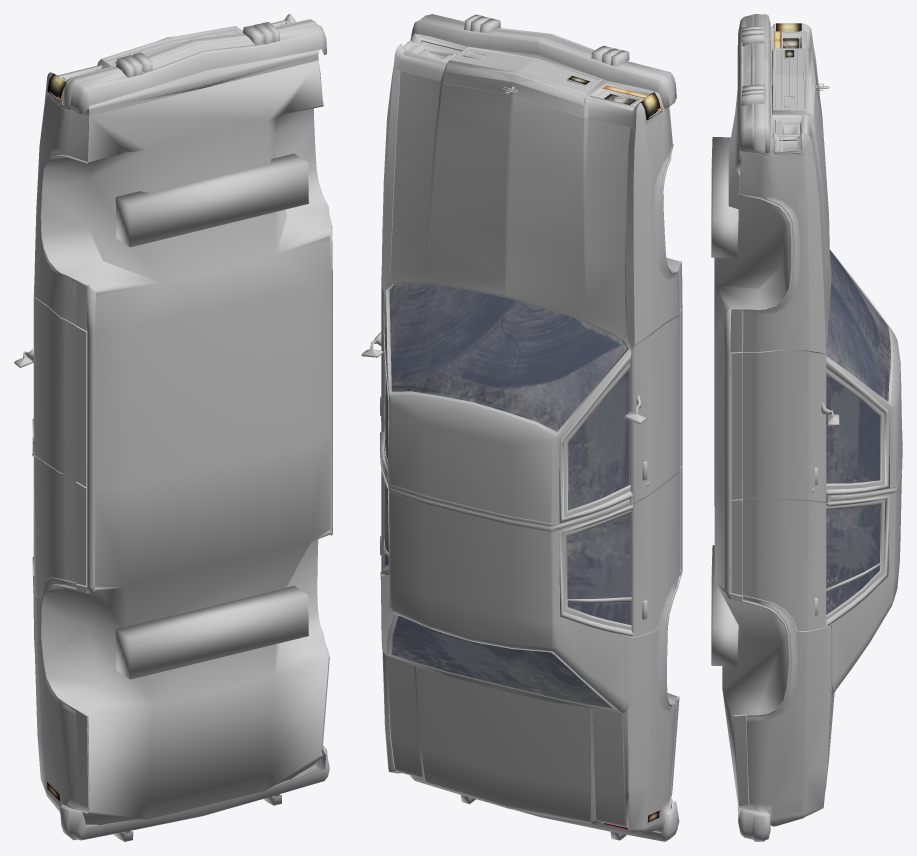
File: Melbick.FBX
3 views of the same model, side by side, from view 1: azimuth 30°, elevation 25°; view 2: azimuth 150°, elevation 25°; view 3: azimuth 270°, elevation 25° (orthographic). The views are drawn at different scales.
Visible parts, largest first — view 1: Misc, Body_P, Doorpf_P, Bumper3, Doorpr_P, FrontEnd2Msc, BumperB1, TrimA, TrimB, Pf_TrimB, FrontEnd1Misc, Bumper2 (+1 smaller); view 2: Hood_P, Extra, Trunk_P, GlassFront, Body_P, Extra1, Doorpf_P, GlassBack, Doorpr_P, Misc, Glasspf, Glasspr (+15 smaller); view 3: Misc, Body_P, Doordf_P, Doordr_P, GlassFront, Glassdf, Extra, Glassdr, FrontEnd2Msc, Bumper3, TrimB, Hood_P (+14 smaller).
Boxes of the visible parts, x1,y1,x2,y2 form: Misc: (32, 60, 331, 824); Body_P: (33, 64, 328, 813); Doorpf_P: (33, 296, 76, 479); Bumper3: (62, 19, 326, 112); Doorpr_P: (33, 454, 76, 597); FrontEnd2Msc: (47, 14, 319, 116); BumperB1: (60, 745, 329, 840); TrimA: (86, 225, 332, 593); TrimB: (76, 218, 332, 807); Pf_TrimB: (76, 326, 87, 487); FrontEnd1Misc: (49, 21, 318, 108); Bumper2: (62, 20, 326, 114); Hood_P: (390, 71, 630, 339); Extra: (380, 469, 630, 711); Trunk_P: (387, 655, 625, 826); GlassFront: (389, 283, 627, 431); Body_P: (381, 67, 679, 832); Extra1: (383, 290, 631, 523); Doorpf_P: (563, 312, 679, 517); GlassBack: (392, 616, 611, 708); Doorpr_P: (562, 468, 679, 636); Misc: (379, 70, 680, 827); Glasspf: (568, 370, 628, 510); Glasspr: (567, 514, 630, 598); Misc: (711, 49, 893, 813); Body_P: (731, 44, 833, 826); Doordf_P: (743, 350, 884, 501); Doordr_P: (733, 498, 884, 630); GlassFront: (826, 249, 890, 401); Glassdf: (826, 374, 880, 483); Extra: (830, 471, 901, 692); Glassdr: (826, 504, 880, 588); FrontEnd2Msc: (772, 23, 827, 154); Bumper3: (737, 14, 770, 151); TrimB: (730, 308, 749, 804); Hood_P: (811, 47, 831, 344).
Bounding box in the file's own units: 205 × 547 × 129.
